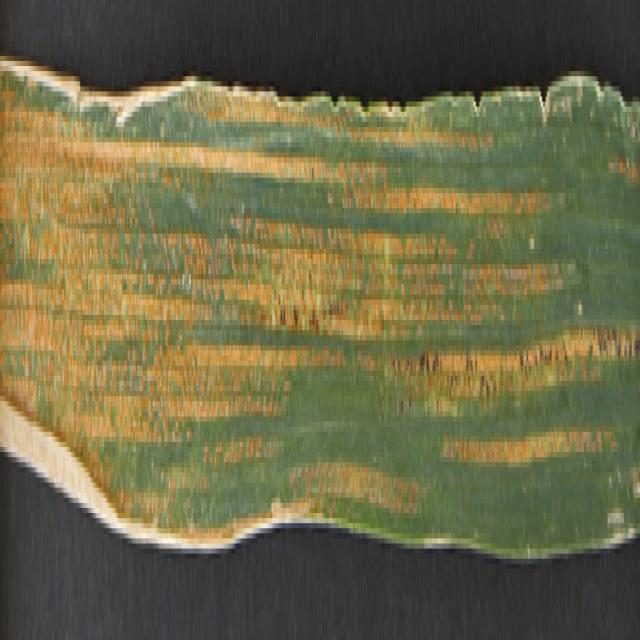leaf rust: (1, 41, 636, 538)
